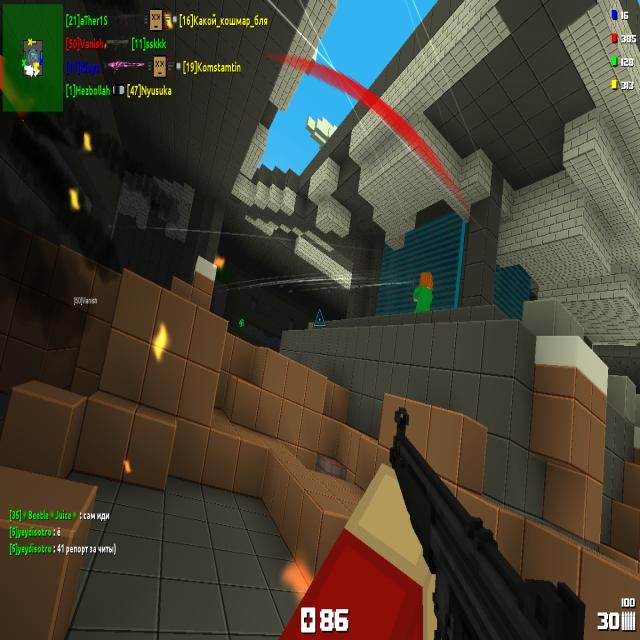enemy: (413, 270, 433, 312)
